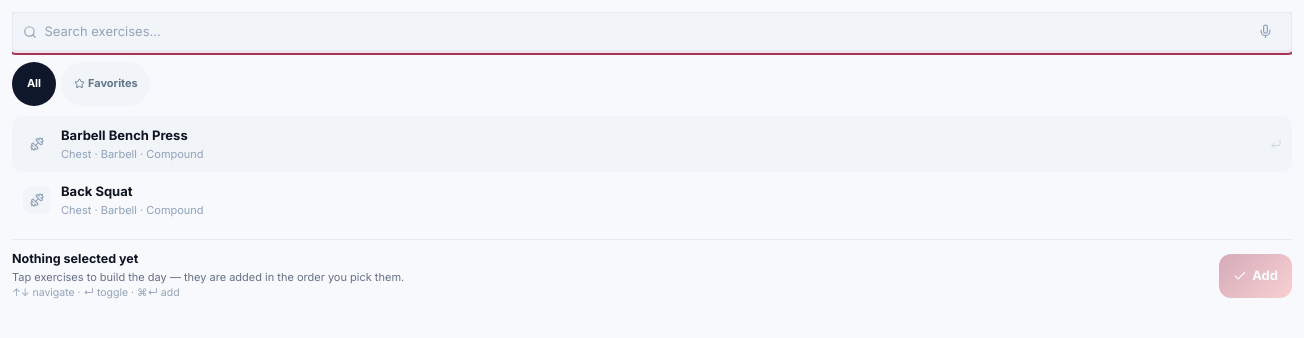
Test: when it does not work › explains a blocked microphone and stays available to retry
Click the button named "search by voice" at (1266, 32), box [1246,12,1285,51]
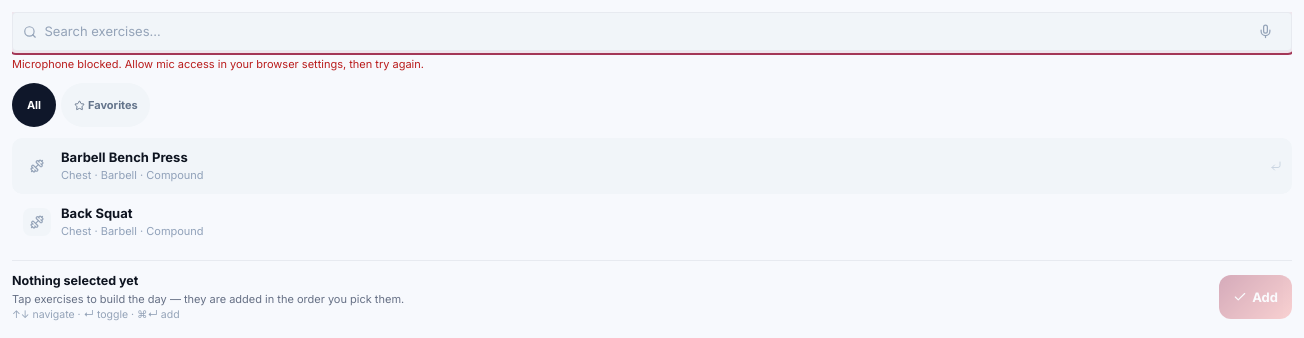
Now the message shows "Microphone blocked", box [12,57,424,71]
